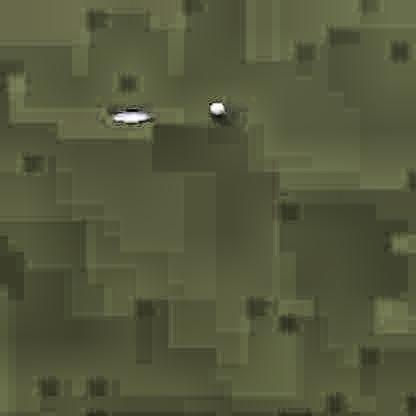golfball: (208, 99, 224, 115)
